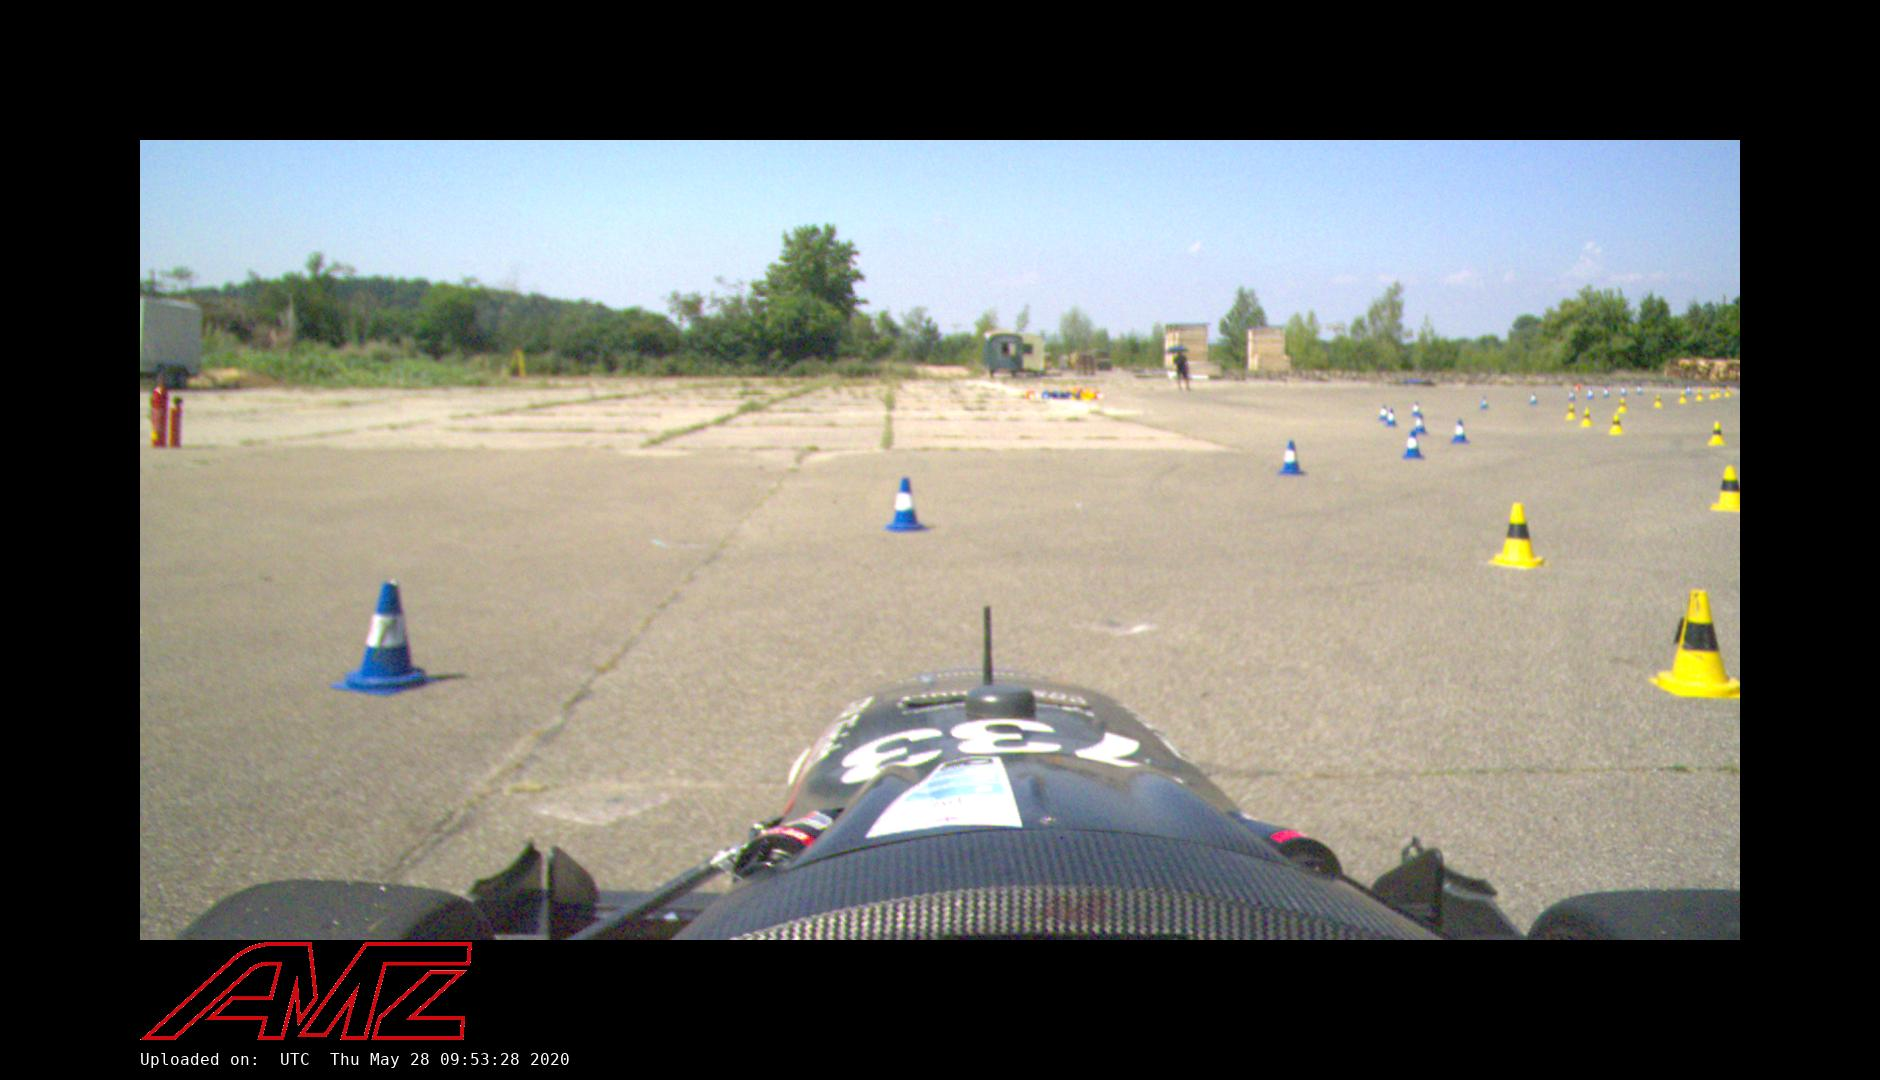blue_cone: (335, 577, 434, 699), (883, 477, 927, 533), (1277, 439, 1304, 476), (1400, 429, 1424, 459), (1451, 417, 1469, 444), (1413, 414, 1427, 433), (1386, 407, 1398, 426), (1411, 400, 1421, 416), (1379, 404, 1388, 421), (1480, 395, 1489, 410), (1529, 391, 1538, 405), (1636, 382, 1644, 395), (1567, 389, 1576, 400), (1587, 387, 1594, 399), (1620, 385, 1627, 396), (1603, 386, 1609, 398)
yellow_cone: (1647, 589, 1739, 699), (1489, 502, 1546, 569), (1710, 465, 1739, 512), (1708, 420, 1726, 446), (1607, 412, 1624, 435), (1577, 407, 1593, 427), (1565, 402, 1576, 421), (1617, 398, 1627, 413), (1654, 395, 1663, 407), (1678, 391, 1687, 403)
